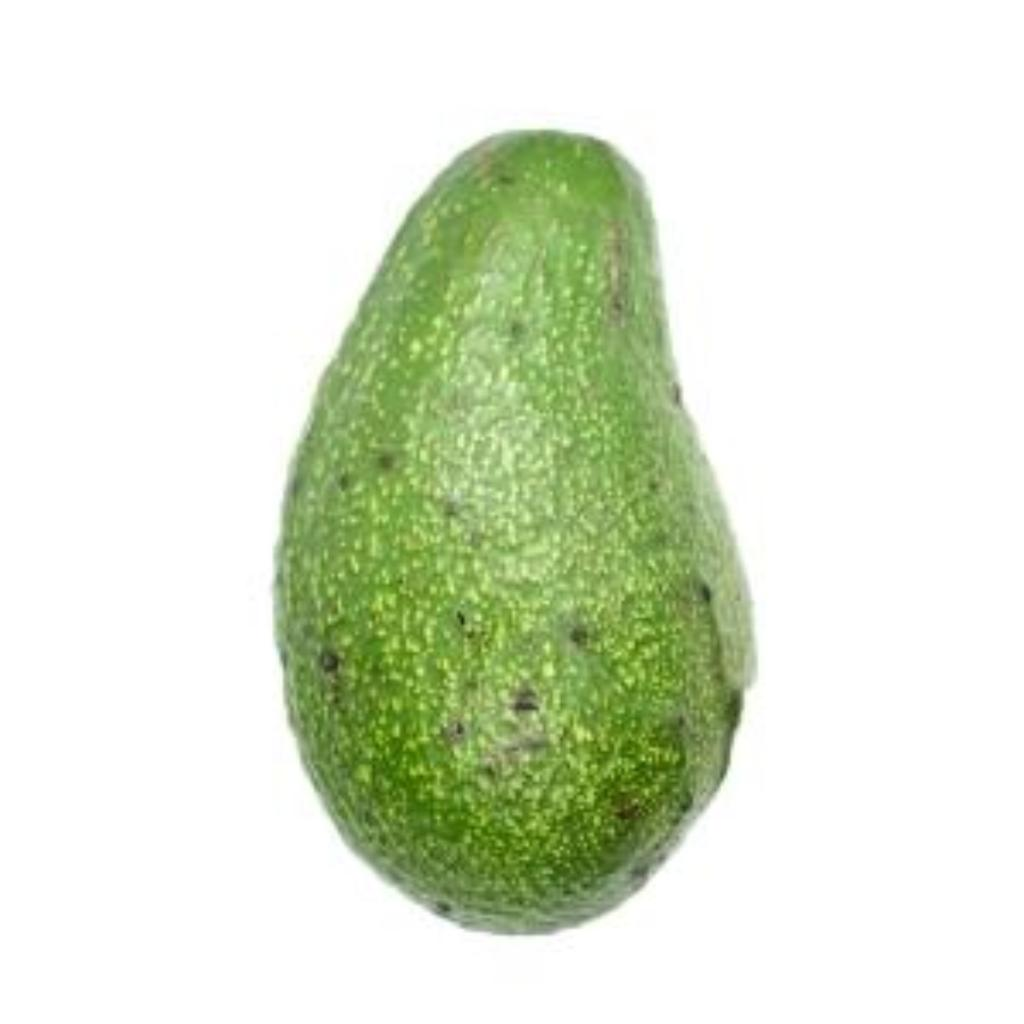cercospora_spot: (271, 102, 773, 936)
